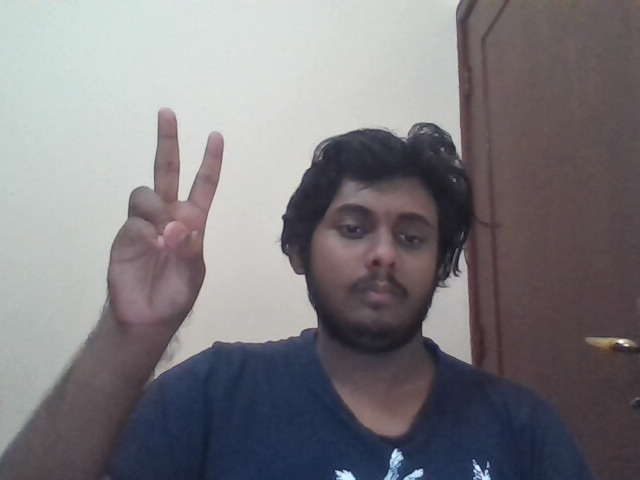peace: (108, 107, 225, 329)
